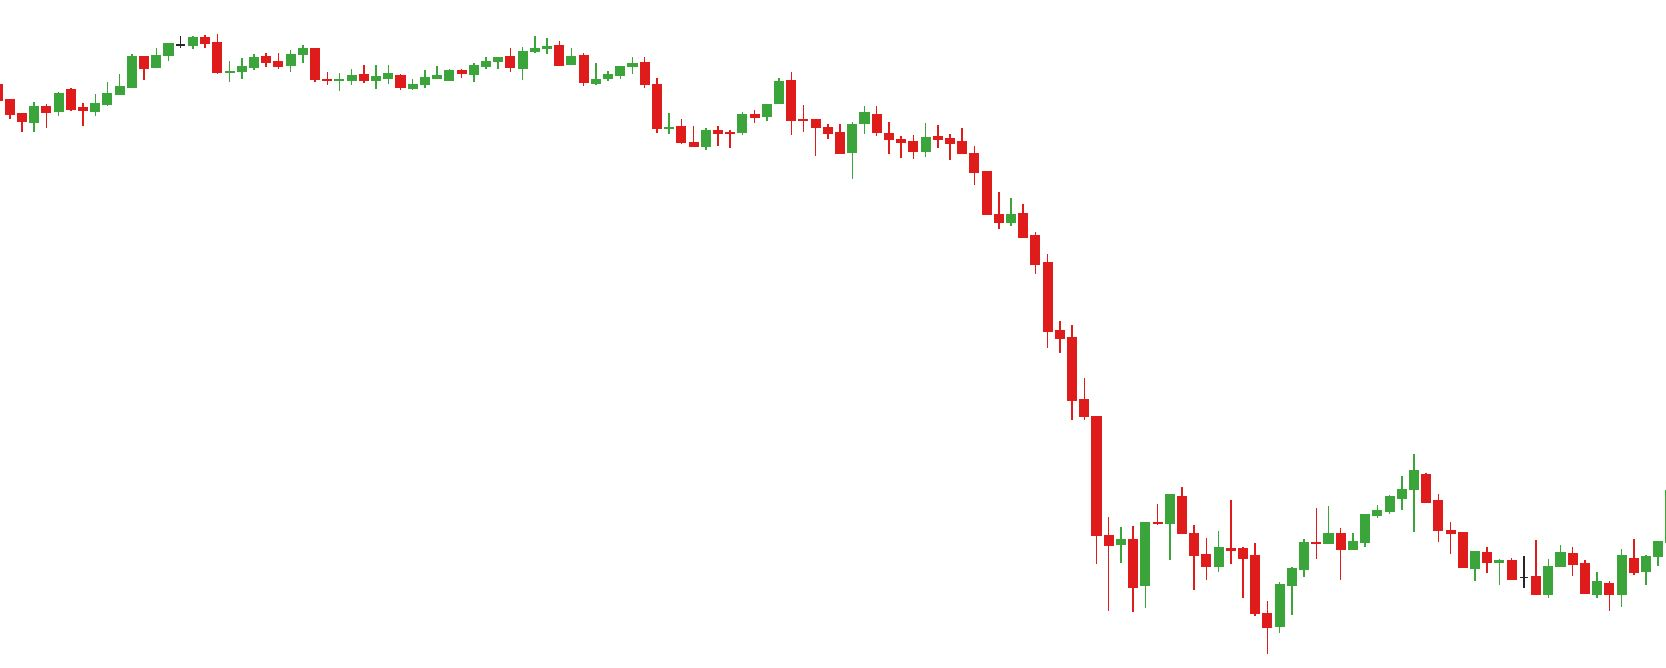buy: (1124, 517, 1288, 657)
